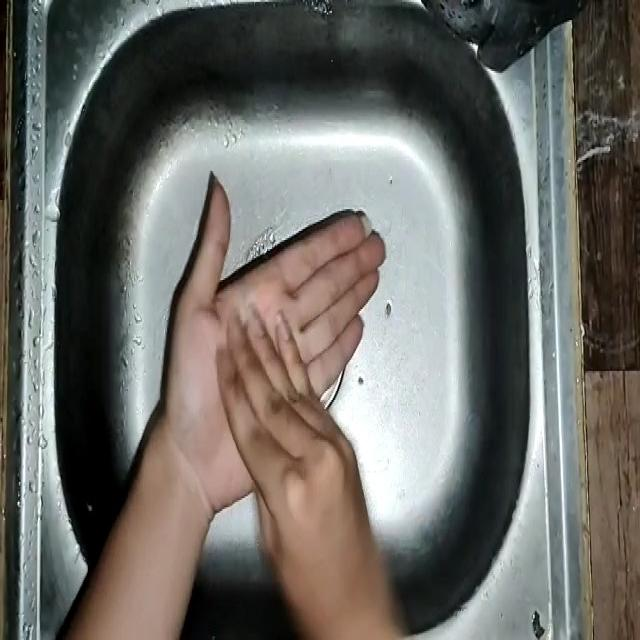step_6: (158, 174, 386, 580)
